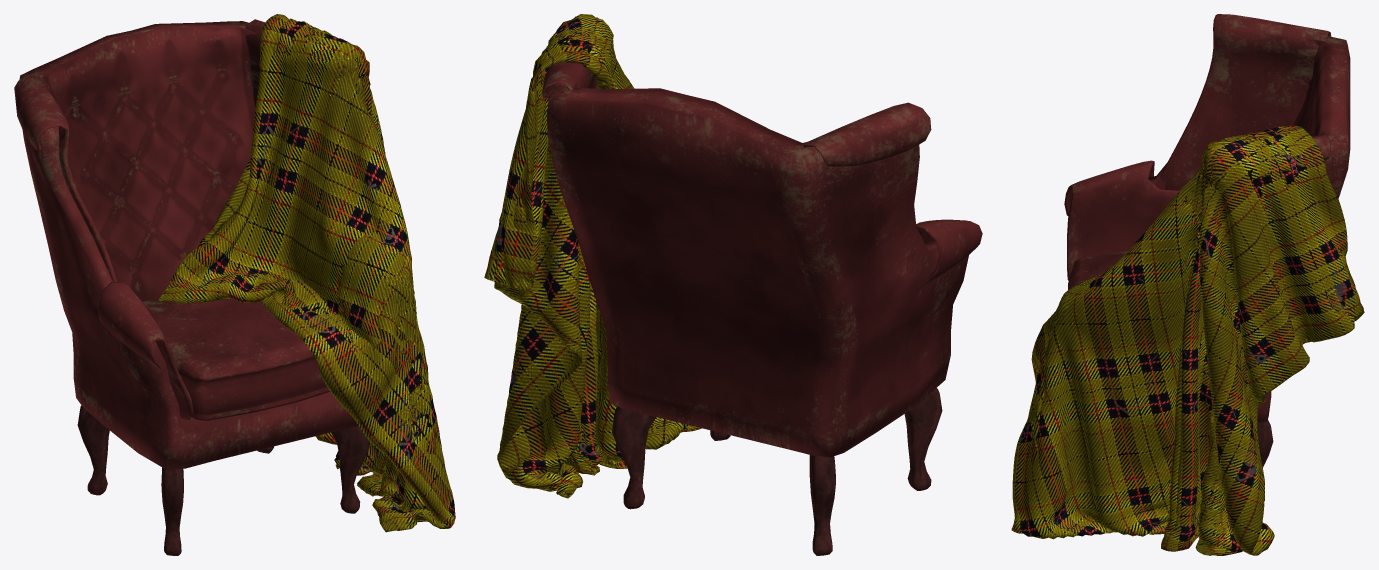
The picture shows the model from 3 angles, left to right: view 1: azimuth 30°, elevation 25°; view 2: azimuth 150°, elevation 25°; view 3: azimuth 270°, elevation 25°; orthographic projection. The views are drawn at different scales.
Visible parts, largest first — view 1: chair, wood; view 2: chair, wood; view 3: wood, chair.
Part boxes in pixels (left/top/right/bottom): chair: left=14, top=19, right=370, bottom=555; wood: left=157, top=14, right=455, bottom=532; chair: left=542, top=62, right=982, bottom=555; wood: left=484, top=14, right=701, bottom=498; wood: left=1011, top=125, right=1364, bottom=555; chair: left=1064, top=14, right=1350, bottom=500.
Bounding box in the file's own units: 1.08 × 1.17 × 0.9449.
2 materials, 2 textured.
